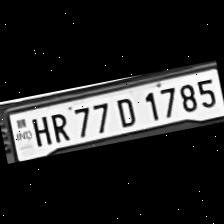1: (136, 88, 162, 124)
5: (192, 74, 219, 110)
7: (67, 102, 95, 140), (86, 99, 114, 136), (154, 84, 180, 120)
8: (174, 80, 200, 116)
D: (109, 92, 141, 128)
H: (26, 112, 52, 148)
R: (45, 108, 73, 146)
